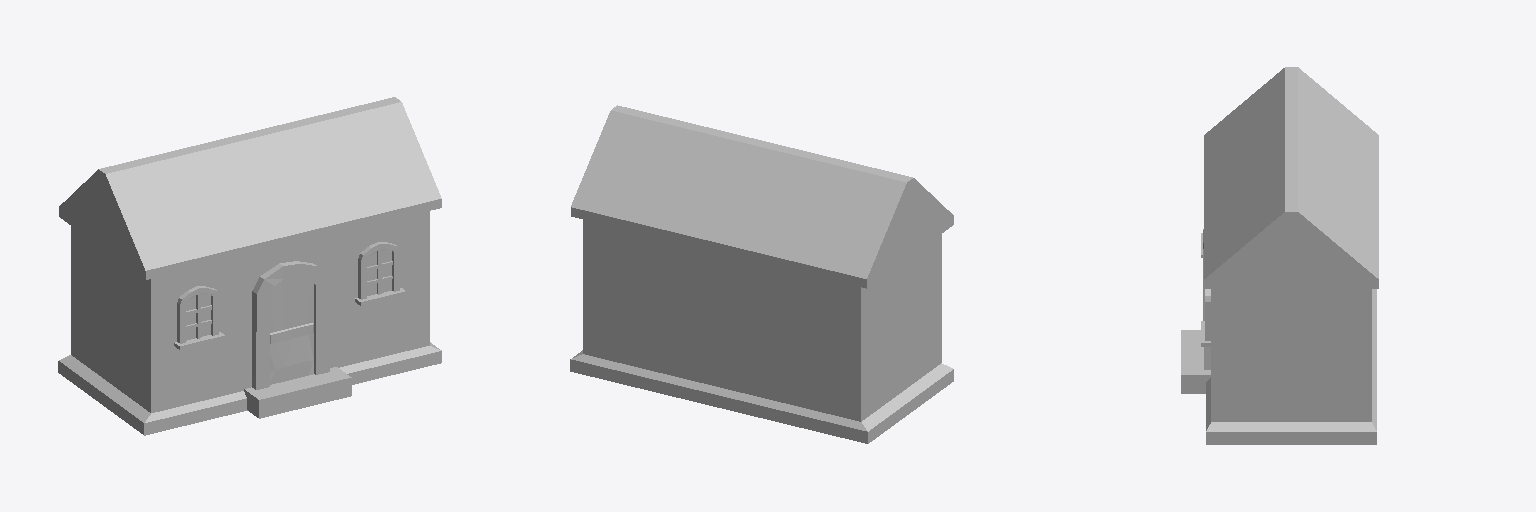
Rendered from small_house.obj.
3 renders of one model, left to right at view 1: azimuth 30°, elevation 25°; view 2: azimuth 150°, elevation 25°; view 3: azimuth 270°, elevation 25°, orthographic.
Visible parts, largest first — view 1: Building_Cube; view 2: Building_Cube; view 3: Building_Cube.
Part boxes in pixels (bbox=[...]): Building_Cube: bbox=[58, 97, 441, 435]; Building_Cube: bbox=[570, 105, 953, 443]; Building_Cube: bbox=[1181, 67, 1378, 444].
Size of the model in its own units: 4.28 by 3.19 by 2.45.